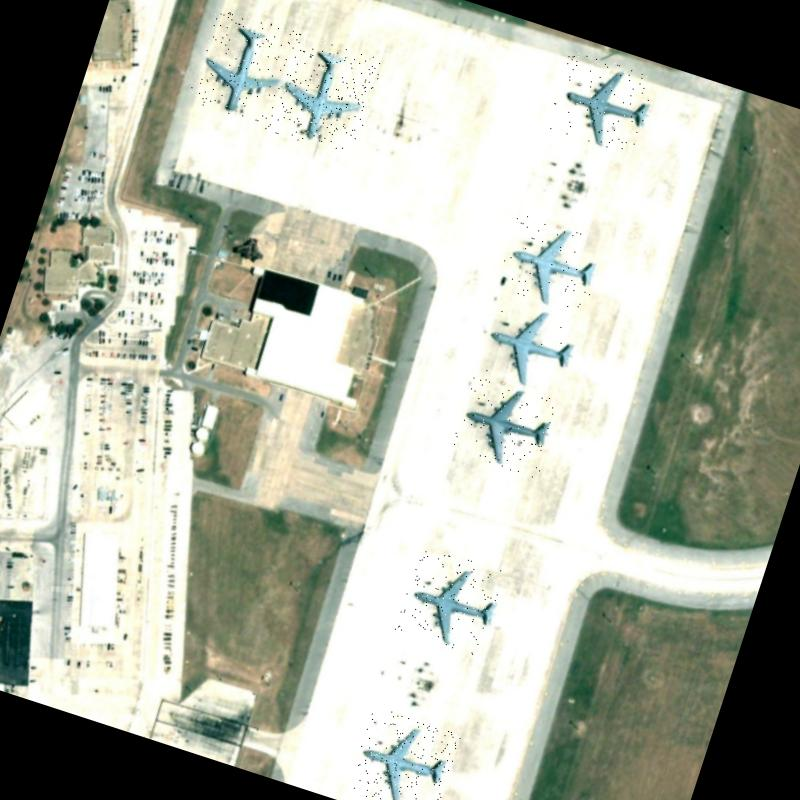A4: (260, 30, 384, 158), (186, 7, 296, 127), (448, 368, 564, 480), (472, 290, 587, 401), (544, 46, 660, 156), (395, 545, 507, 657), (494, 212, 607, 318), (346, 706, 461, 800)
